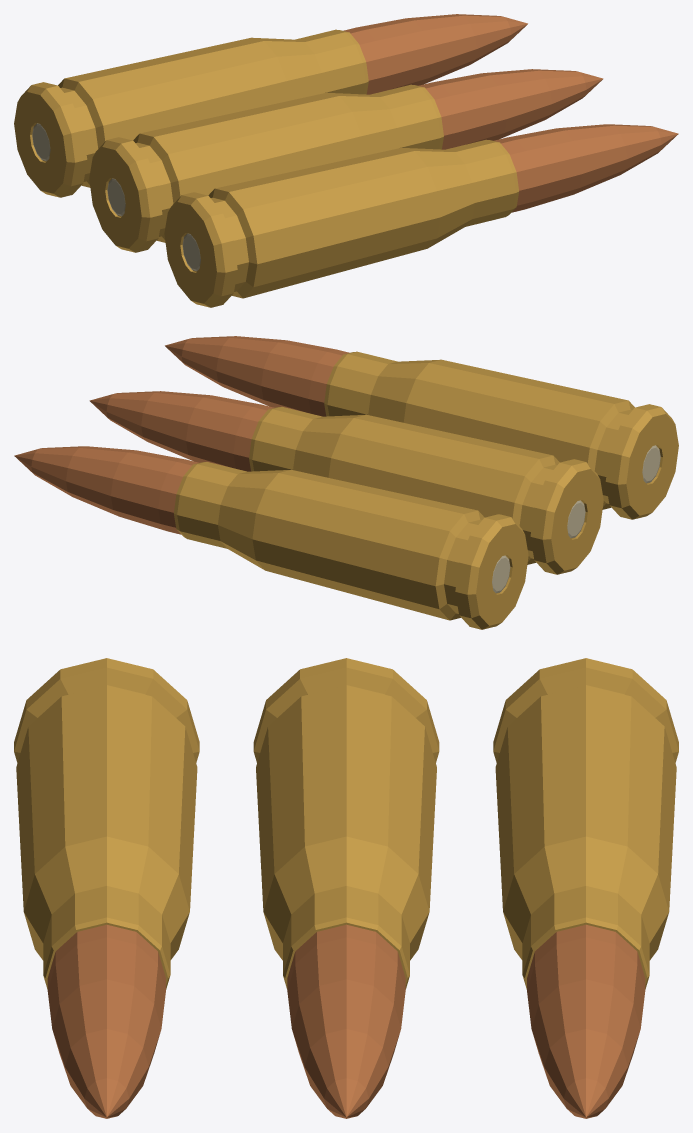
The model's file is bullet_ak_triple.glb.
3 views of the same model, one above another, from view 1: azimuth 30°, elevation 25°; view 2: azimuth 150°, elevation 25°; view 3: azimuth 270°, elevation 25° (orthographic). The views are drawn at different scales.
Visible parts, largest first — view 1: Round3_Casing, Round1_Casing, Round2_Casing, Round3_Projectile, Round2_Projectile, Round1_Projectile, Round2_Primer, Round3_Primer, Round1_Primer; view 2: Round1_Casing, Round3_Casing, Round2_Casing, Round1_Projectile, Round2_Projectile, Round3_Projectile, Round1_Primer, Round2_Primer, Round3_Primer; view 3: Round1_Casing, Round3_Casing, Round2_Casing, Round2_Projectile, Round1_Projectile, Round3_Projectile.
Part boxes in pixels (left/top/right/bottom): Round3_Casing: left=164, top=139, right=518, bottom=307; Round1_Casing: left=14, top=29, right=368, bottom=197; Round2_Casing: left=89, top=84, right=443, bottom=252; Round3_Projectile: left=493, top=124, right=678, bottom=212; Round2_Projectile: left=418, top=69, right=603, bottom=149; Round1_Projectile: left=343, top=14, right=527, bottom=94; Round2_Primer: left=107, top=178, right=125, bottom=216; Round3_Primer: left=182, top=233, right=200, bottom=271; Round1_Primer: left=32, top=123, right=50, bottom=161; Round1_Casing: left=174, top=461, right=528, bottom=629; Round3_Casing: left=324, top=351, right=678, bottom=519; Round2_Casing: left=249, top=406, right=603, bottom=574; Round1_Projectile: left=14, top=446, right=199, bottom=534; Round2_Projectile: left=89, top=391, right=274, bottom=471; Round3_Projectile: left=165, top=336, right=349, bottom=416; Round1_Primer: left=492, top=555, right=510, bottom=593; Round2_Primer: left=567, top=500, right=585, bottom=538; Round3_Primer: left=642, top=445, right=660, bottom=483; Round1_Casing: left=493, top=658, right=678, bottom=989; Round3_Casing: left=14, top=658, right=199, bottom=989; Round2_Casing: left=253, top=658, right=439, bottom=989; Round2_Projectile: left=287, top=924, right=405, bottom=1118; Round1_Projectile: left=527, top=924, right=645, bottom=1118; Round3_Projectile: left=47, top=924, right=165, bottom=1118.
Size of the model in its own units: 0.06 by 0.0124 by 0.0444.
